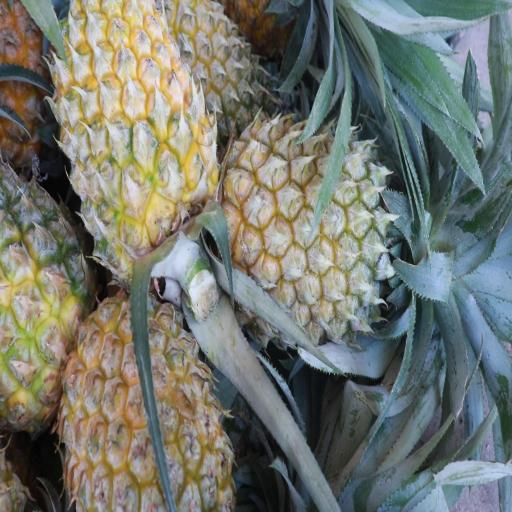------------------------------: (0, 168, 109, 444)
Pineapple - v8 v1: (47, 0, 221, 310), (208, 106, 414, 352), (50, 288, 236, 512)
